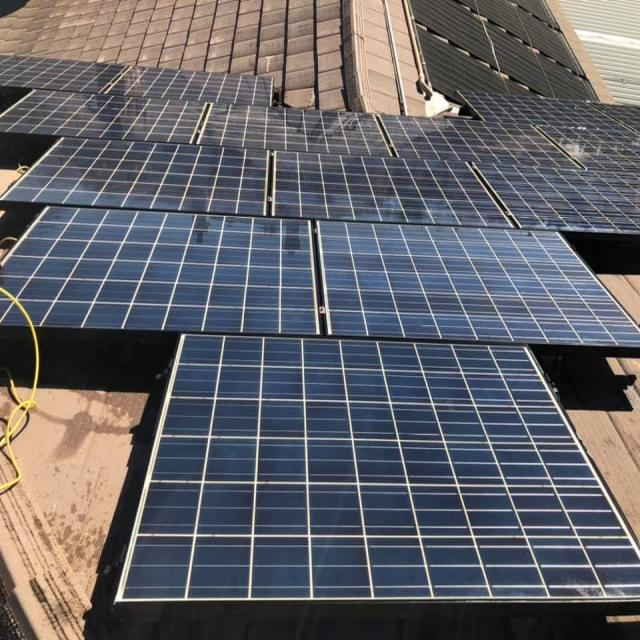clean-solar-panel: (0, 58, 640, 602)
